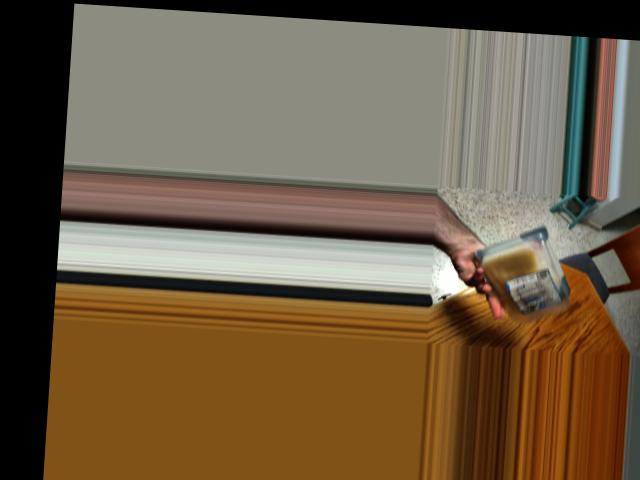cheese: (495, 224, 574, 319)
